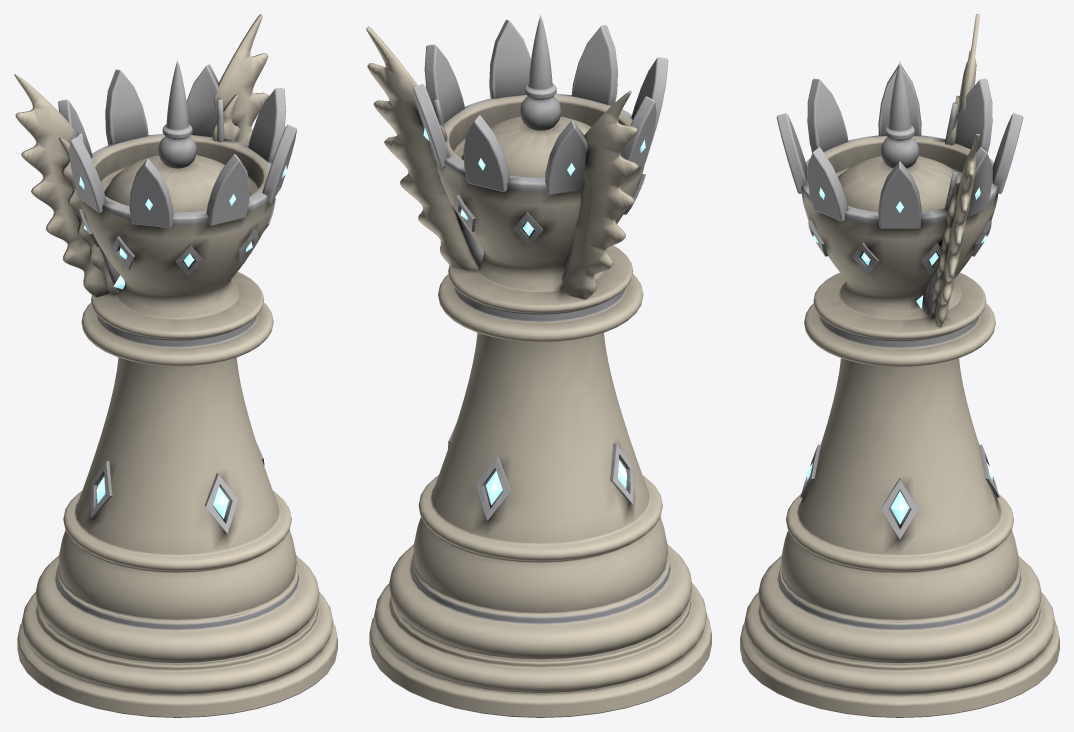
Rendered from leaping_queen.glb.
3 views of the same model, side by side, from view 1: azimuth 30°, elevation 25°; view 2: azimuth 150°, elevation 25°; view 3: azimuth 270°, elevation 25° (orthographic). The views are drawn at different scales.
Parts seen in each view (by area): view 1: leaping_queen; view 2: leaping_queen; view 3: leaping_queen.
Boxes of the visible parts, <box> form: leaping_queen: <box>14,14,337,717</box>; leaping_queen: <box>366,14,711,717</box>; leaping_queen: <box>740,14,1059,717</box>.
Bounding box in the file's own units: 0.74 × 1.51 × 0.74.
